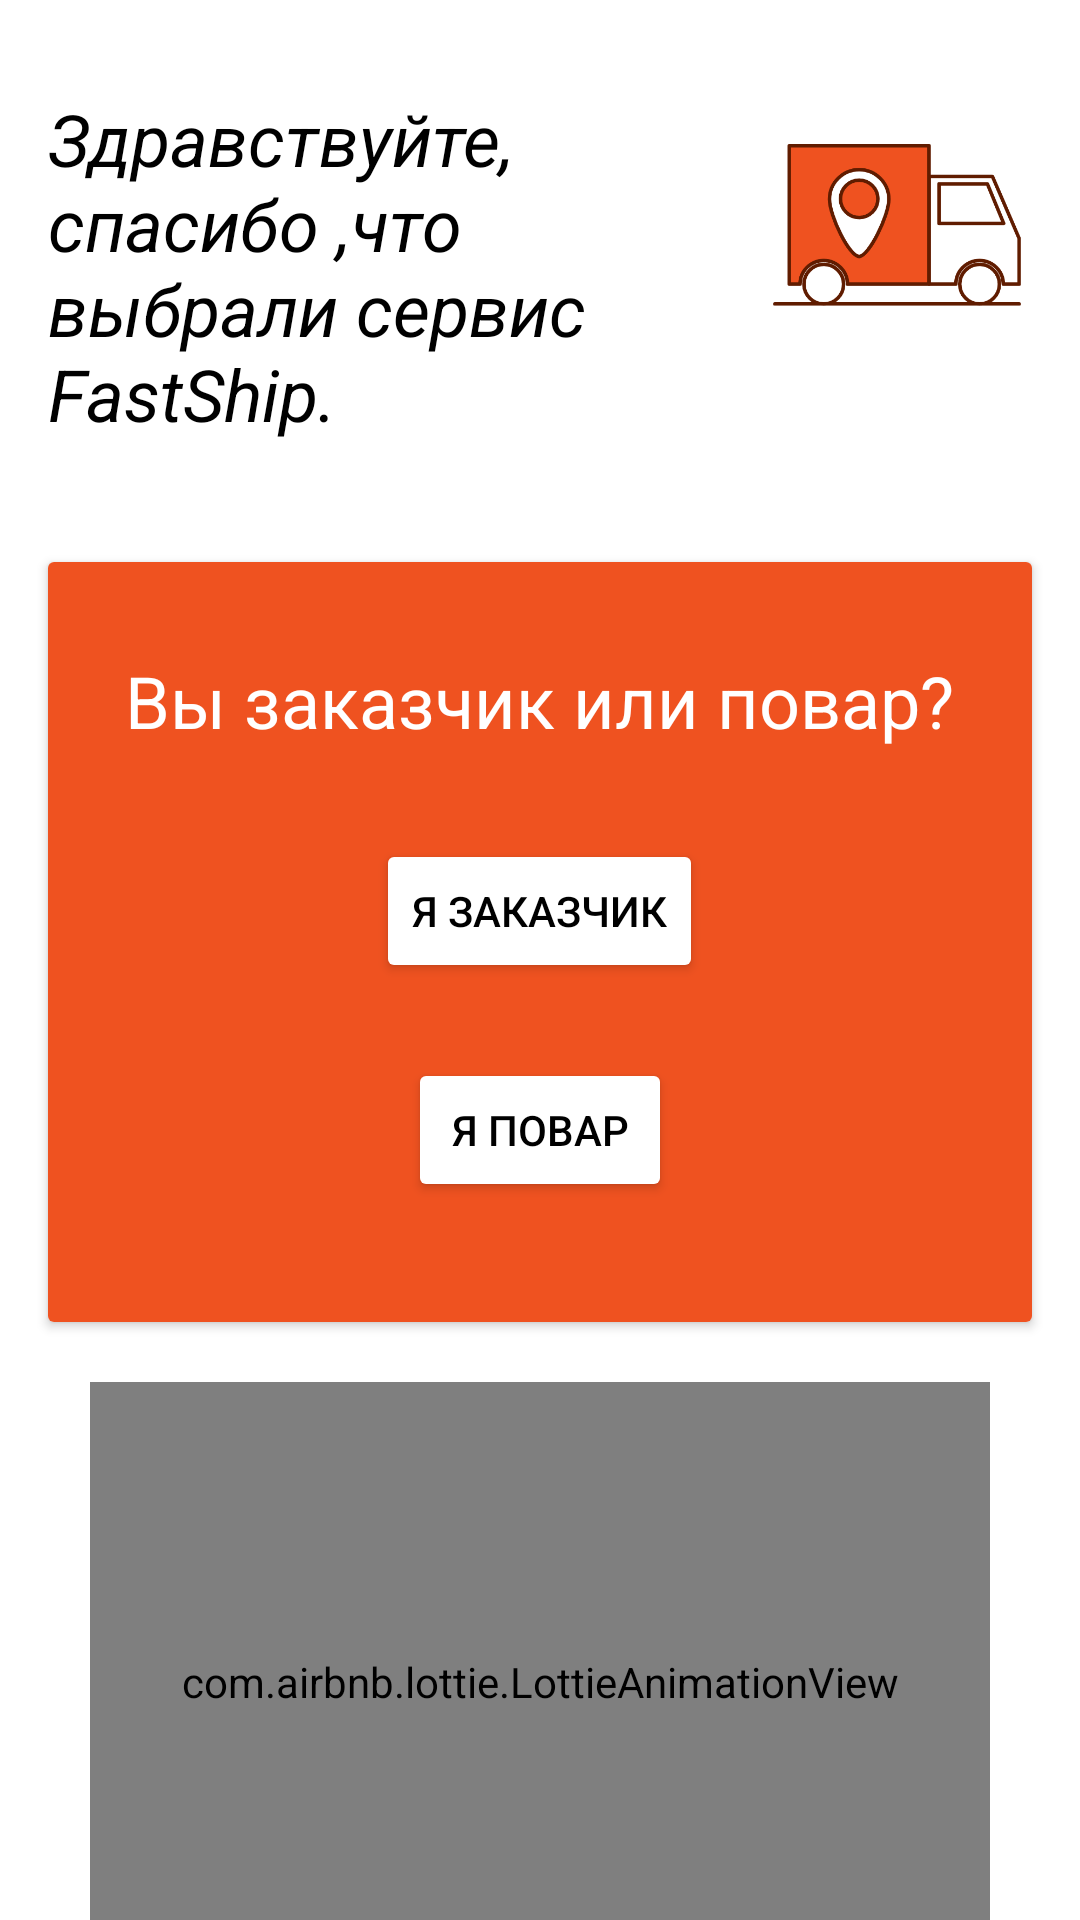

Screen size 1080x1920. Icon name, then its box in pixels as (x1, y1, x2, y2):
delivery: (773, 144, 1021, 306)
